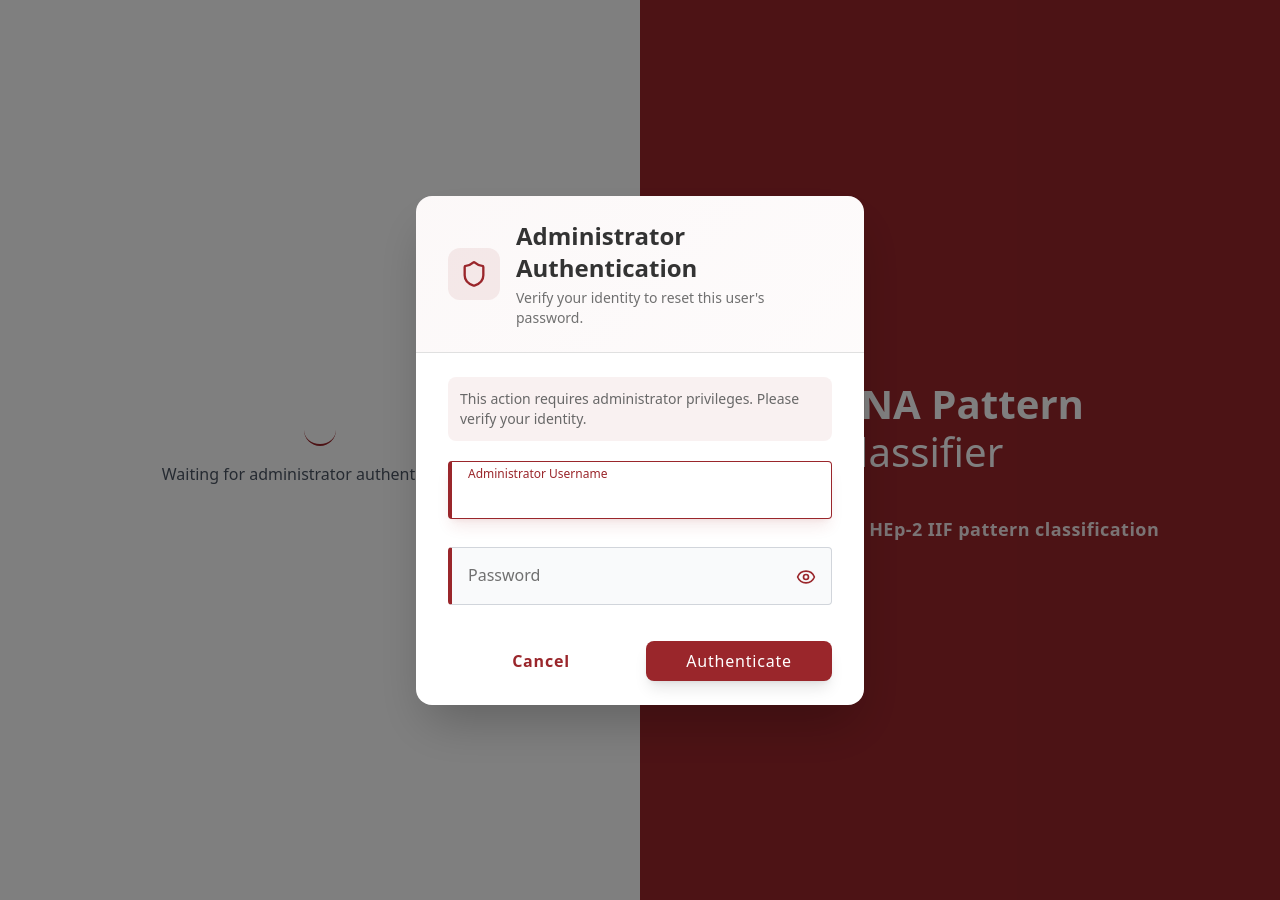
it: ResetPasswordPage › tells the administrator to wait when authentication is rate-limited (429)
Type "admin" into the field labelled "Administrator Username" at (640, 490), box [448,460,832,518]
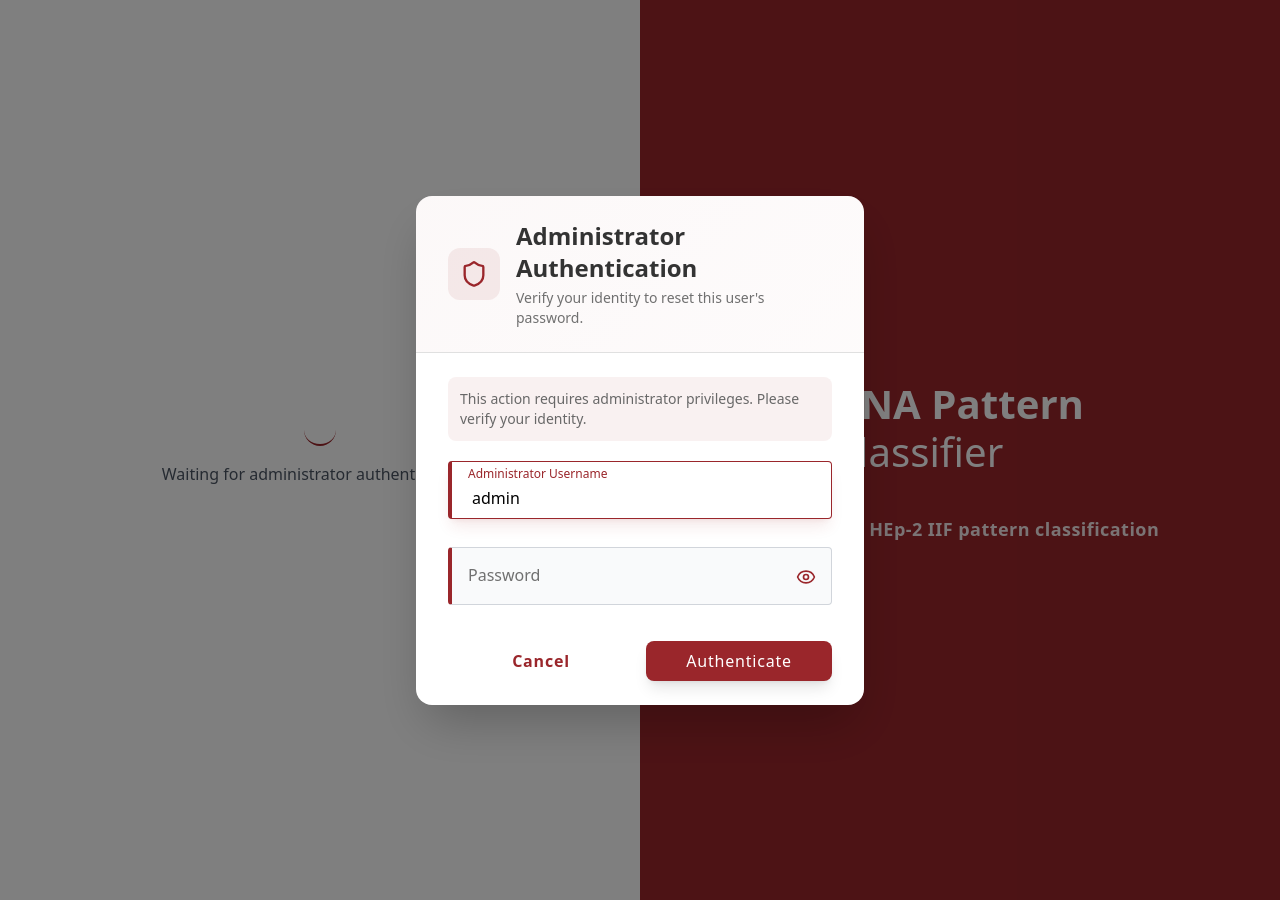
Type "admin-password" into the password field labelled "Password" at (640, 576), box [448,546,832,604]
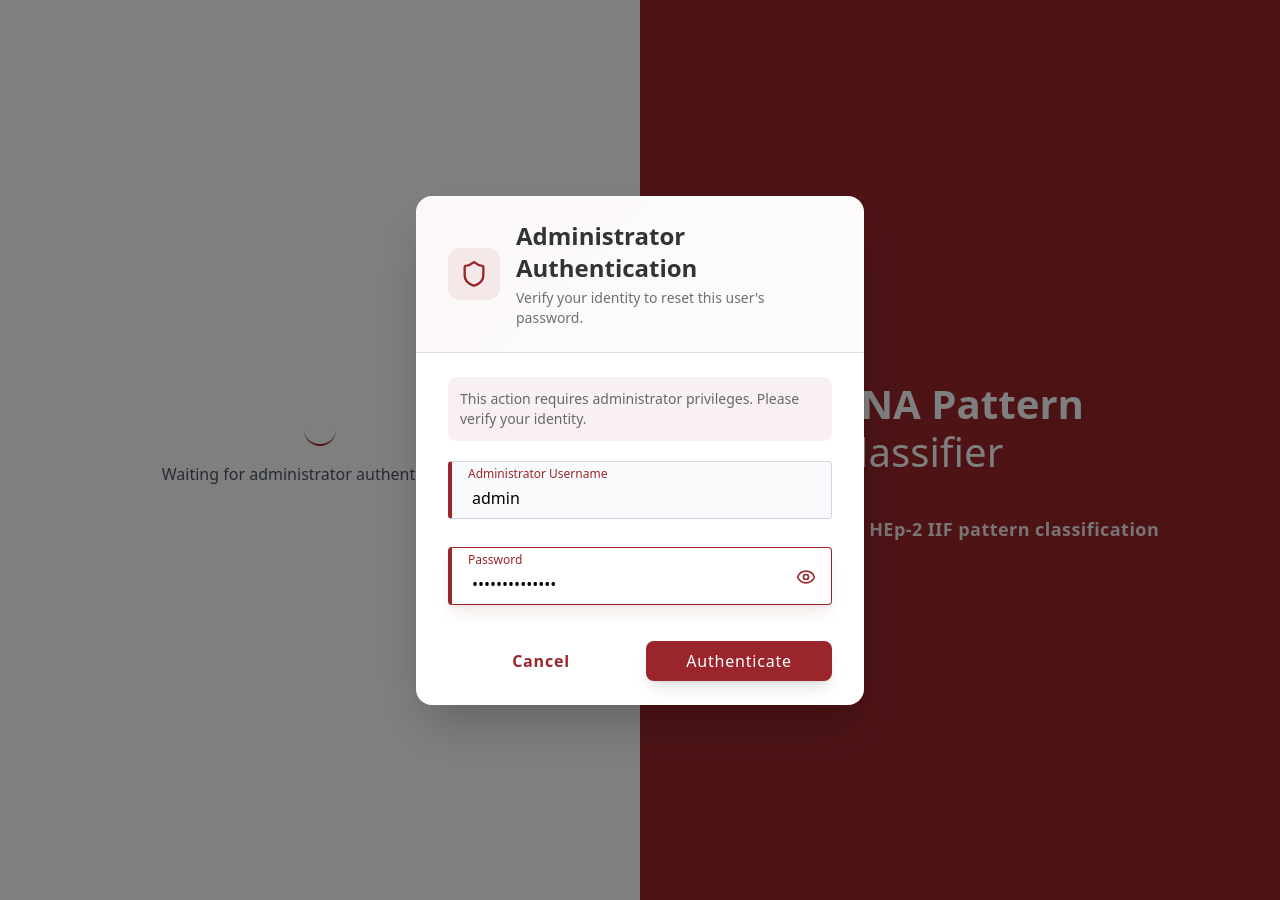
Click the button "Authenticate" at (739, 660), box [646,640,832,680]
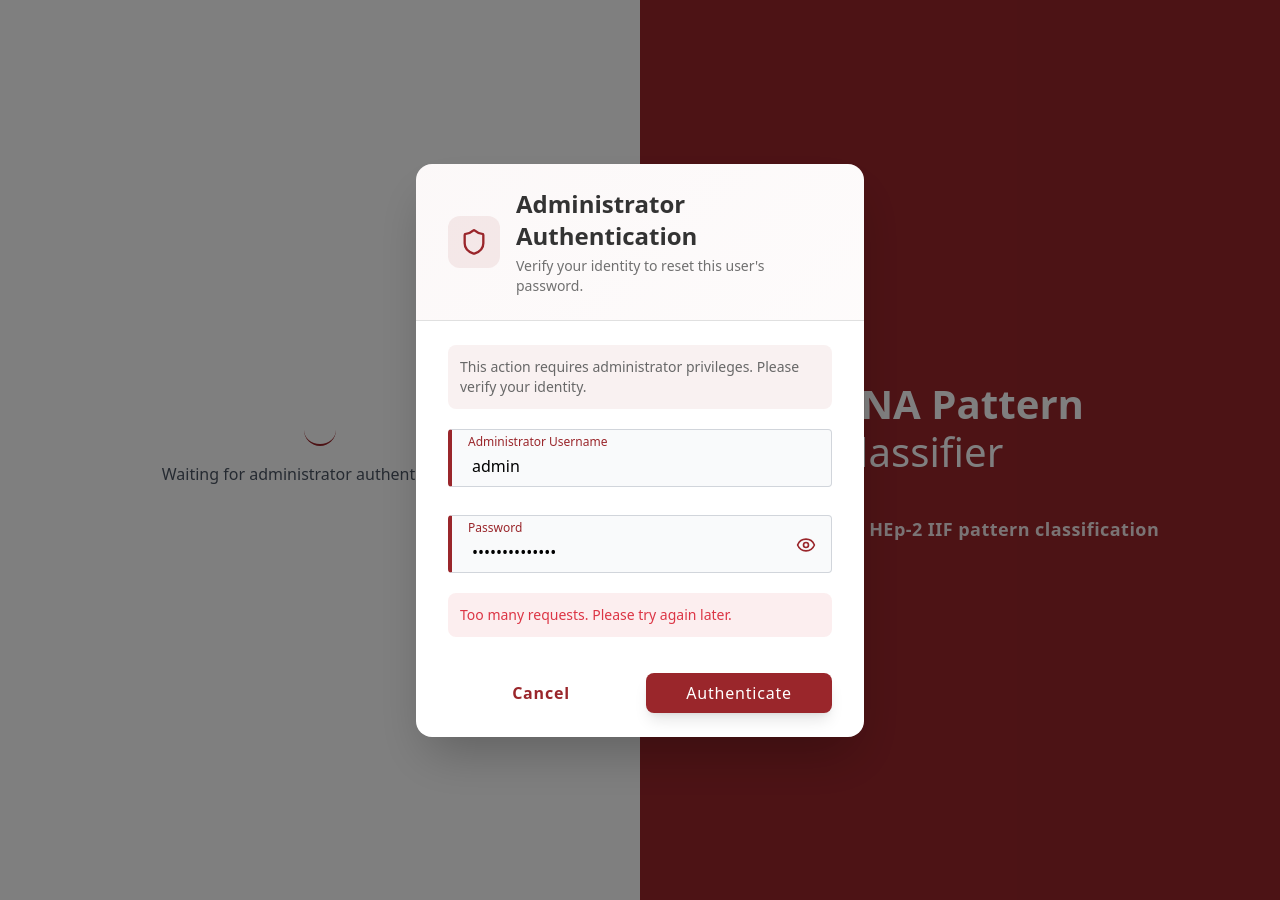
Now the text "Too many requests. Please try again later." is shown, box [448,592,832,636]
